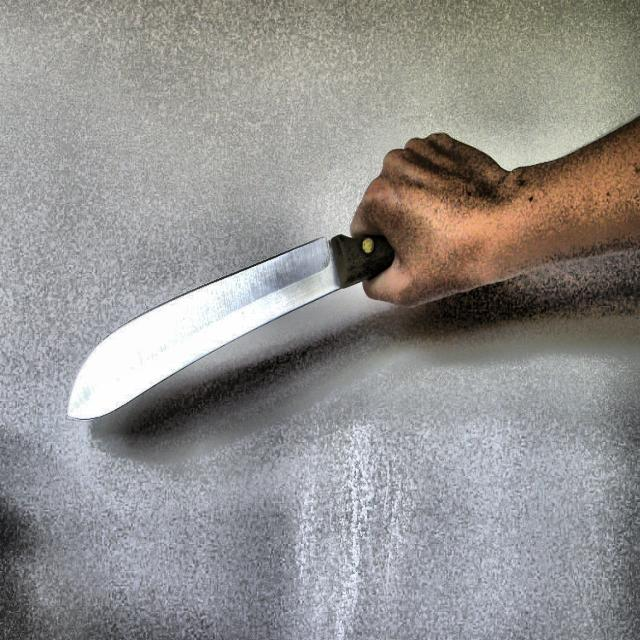knife: (68, 231, 393, 418)
